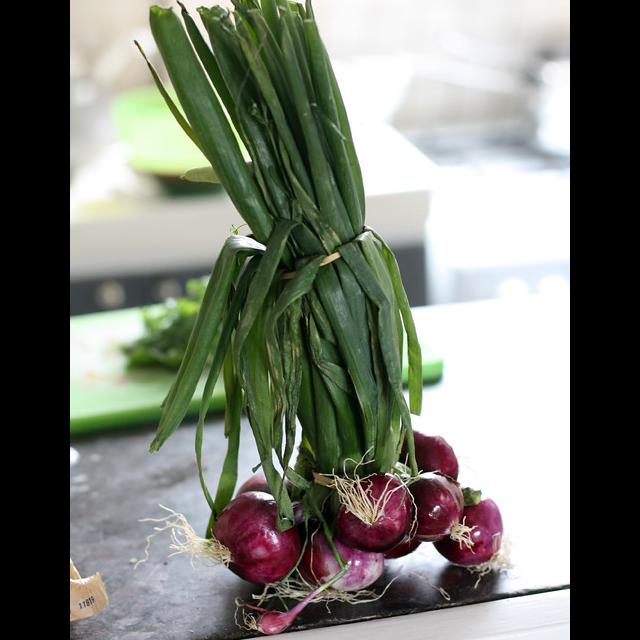green_onion: (150, 0, 472, 635)
